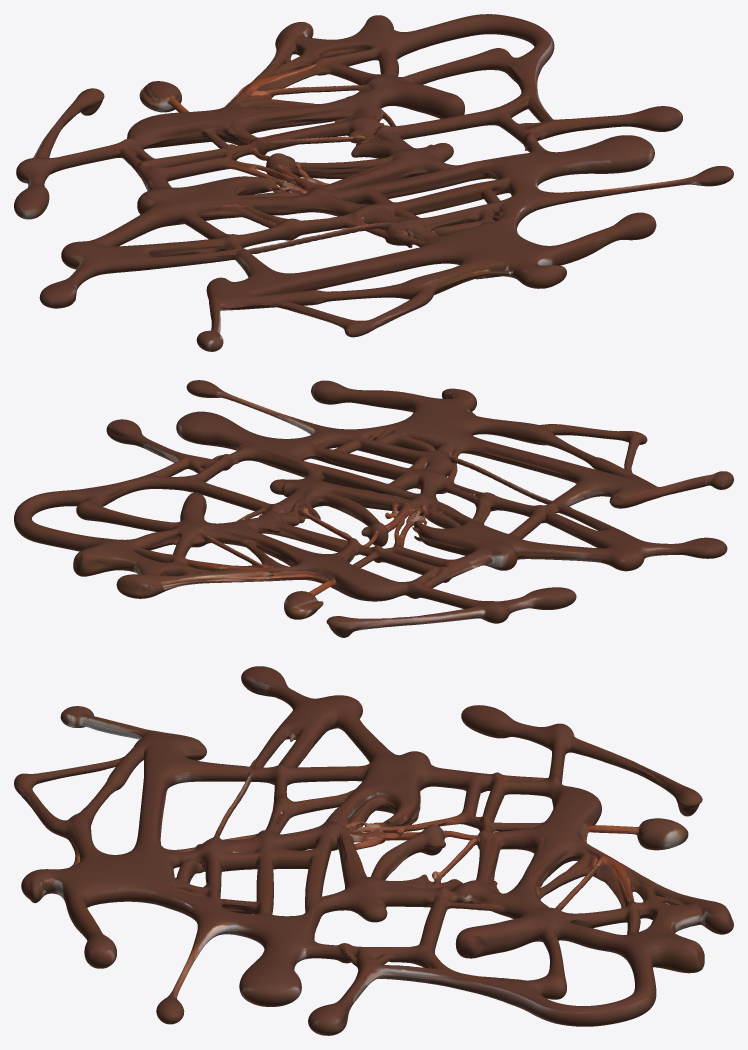
The model's file is topping_syrup.glb.
3 views of the same model, one above another, from view 1: azimuth 30°, elevation 25°; view 2: azimuth 150°, elevation 25°; view 3: azimuth 270°, elevation 25° (orthographic). The views are drawn at different scales.
Parts seen in each view (by area): view 1: tripo_node_d56ab286-d426-469a-b703-4c7ada795987; view 2: tripo_node_d56ab286-d426-469a-b703-4c7ada795987; view 3: tripo_node_d56ab286-d426-469a-b703-4c7ada795987.
Boxes of the visible parts, x1,y1,x2,y2 form: tripo_node_d56ab286-d426-469a-b703-4c7ada795987: (14, 14, 733, 351); tripo_node_d56ab286-d426-469a-b703-4c7ada795987: (14, 380, 733, 637); tripo_node_d56ab286-d426-469a-b703-4c7ada795987: (14, 666, 733, 1035).
Bounding box in the file's own units: 1 × 0.04 × 0.8432.
Materials: 1 (1 with a texture image).
